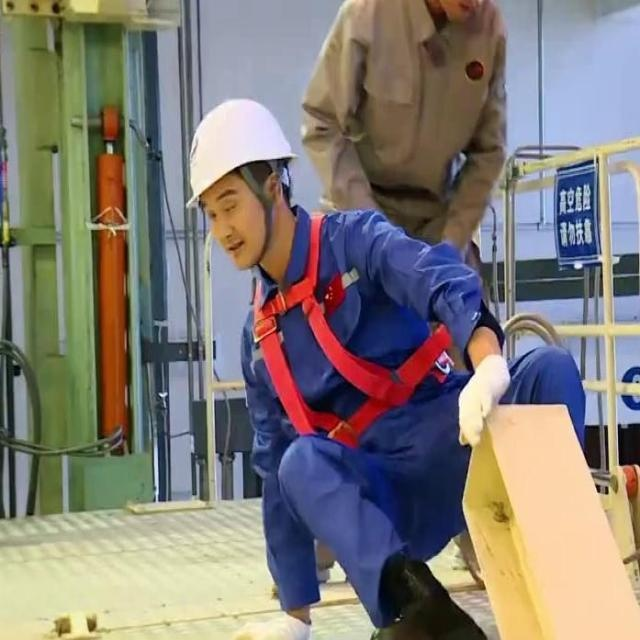Arnes_seguridad: (241, 208, 458, 448)
